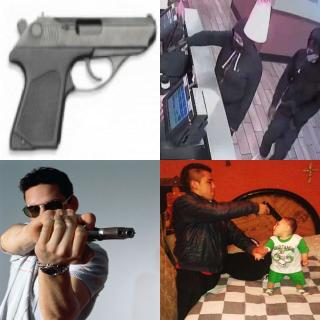gun: (7, 12, 156, 150), (73, 224, 137, 243), (253, 199, 282, 221), (168, 35, 186, 54)
